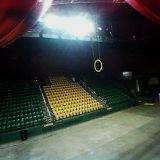Yellow_Circle_GShape: (94, 59, 104, 72)
